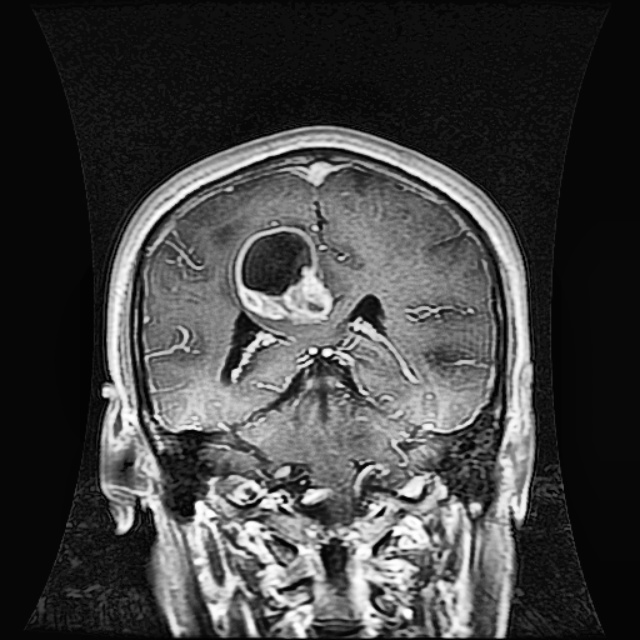Meningioma: (232, 223, 337, 325)
